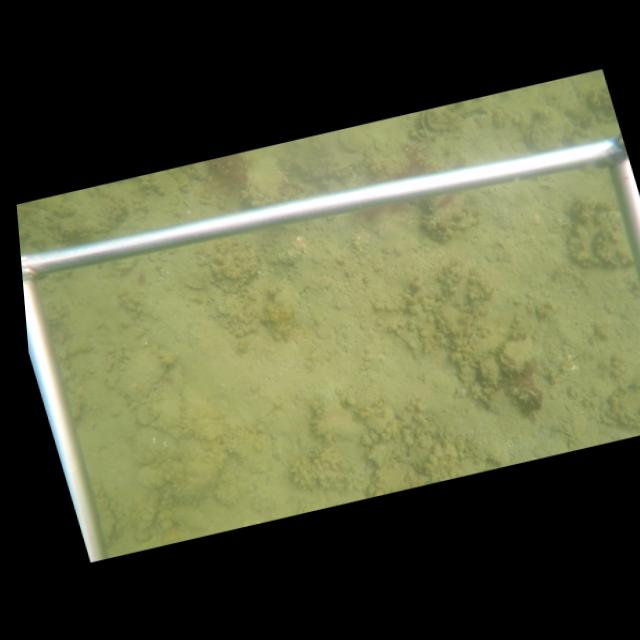Oyster-Indeterminate: (495, 336, 534, 374)
Oyster-Open: (524, 105, 567, 152), (417, 106, 459, 134)
